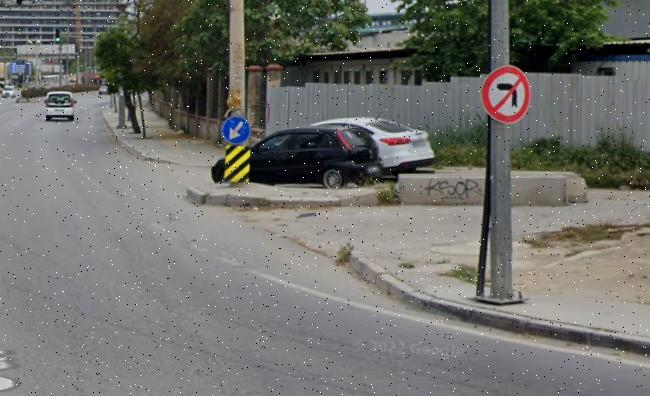leftturnsareforbidden: (484, 67, 531, 123)
